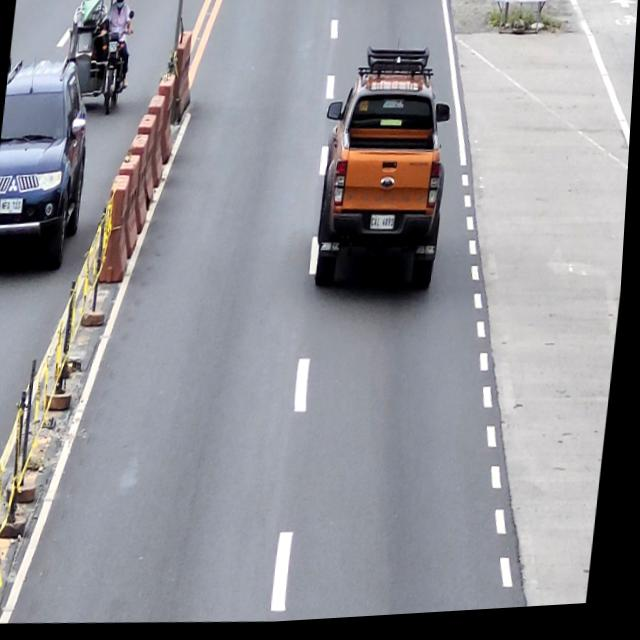Car: (311, 50, 460, 304)
License-Plate: (372, 219, 397, 235)
